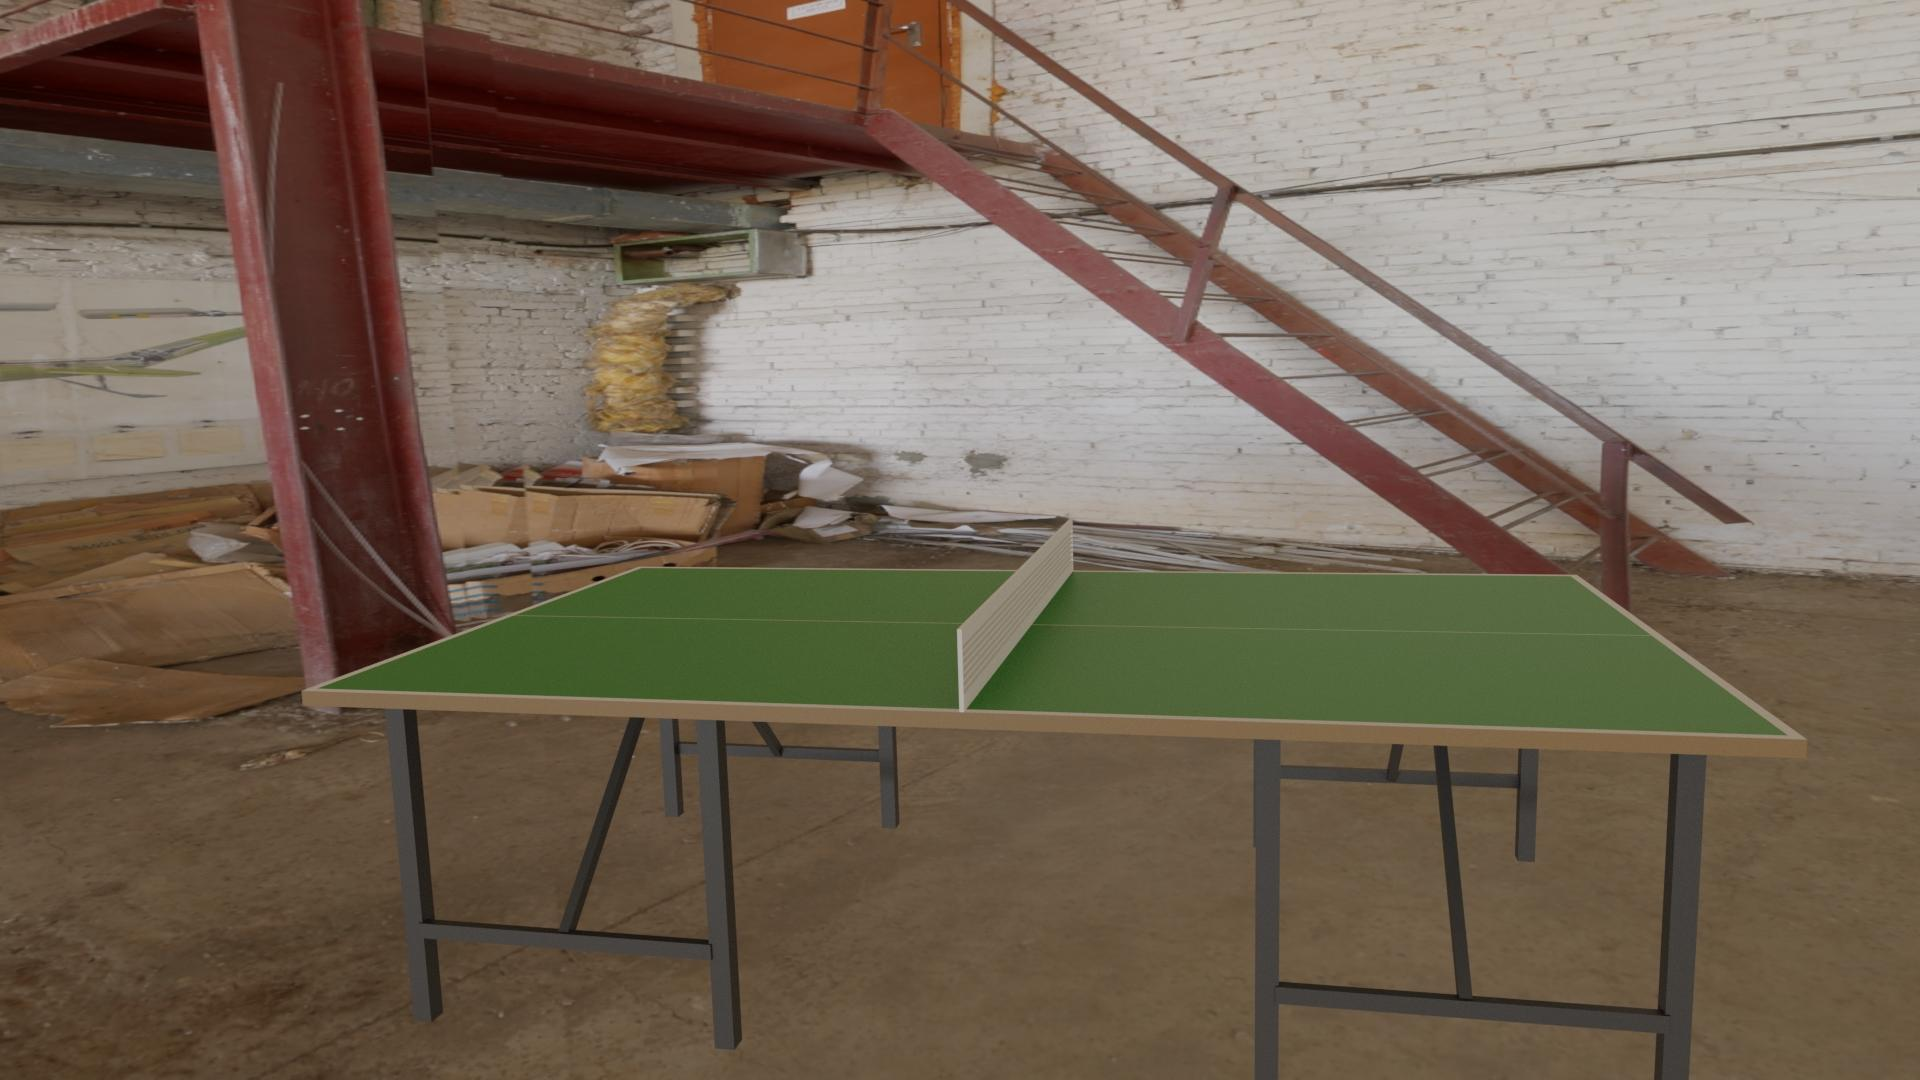table: (316, 568, 1788, 736)
